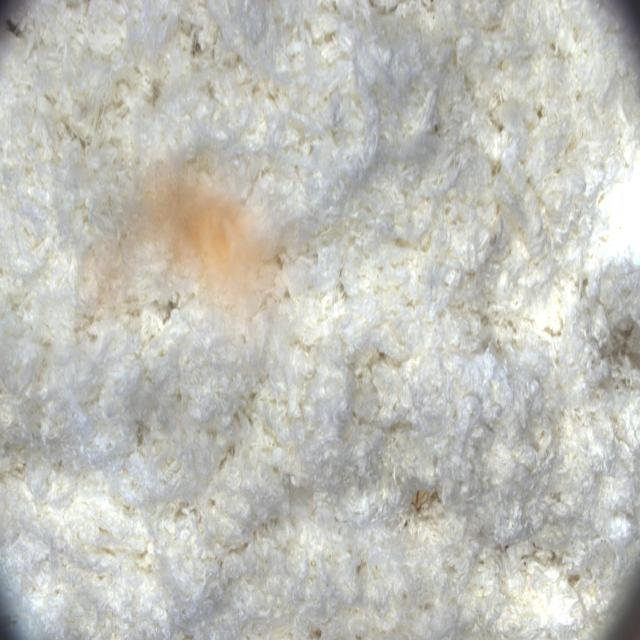dust: (75, 146, 317, 375)
